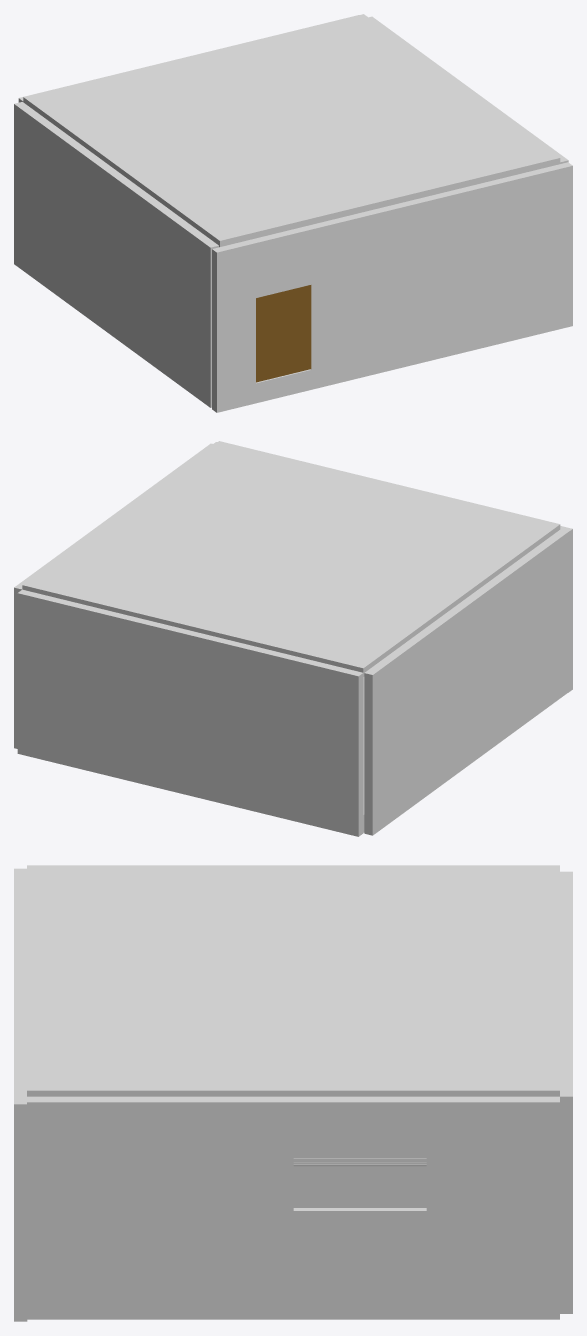
The model's file is kabe(kari).fbx.
3 renders of one model, top to bottom at view 1: azimuth 30°, elevation 25°; view 2: azimuth 150°, elevation 25°; view 3: azimuth 270°, elevation 25°, orthographic. The views are drawn at different scales.
Parts seen in each view (by area): view 1: Ceiling, kabe.002, kabe, Door, kabe.001; view 2: Ceiling, kabe.003, kabe, kabe.001, kabe.002; view 3: Ceiling, kabe.001, Window, kabe.002, kabe.003, 立方体.
Part boxes in pixels (x1,y1,x2,y2): Ceiling: [23, 14, 560, 247]; kabe.002: [212, 162, 572, 412]; kabe: [14, 102, 218, 407]; Door: [256, 285, 311, 382]; kabe.001: [369, 16, 568, 163]; Ceiling: [22, 441, 560, 676]; kabe.003: [17, 589, 363, 836]; kabe: [364, 529, 569, 835]; kabe.001: [14, 443, 214, 748]; kabe.002: [213, 442, 572, 692]; Ceiling: [27, 865, 559, 1096]; kabe.001: [27, 1096, 559, 1319]; Window: [293, 1156, 426, 1207]; kabe.002: [14, 868, 27, 1321]; kabe.003: [560, 871, 572, 1313]; 立方体: [293, 1162, 426, 1166].
Size of the model in its own units: 1084 by 468 by 1049.
